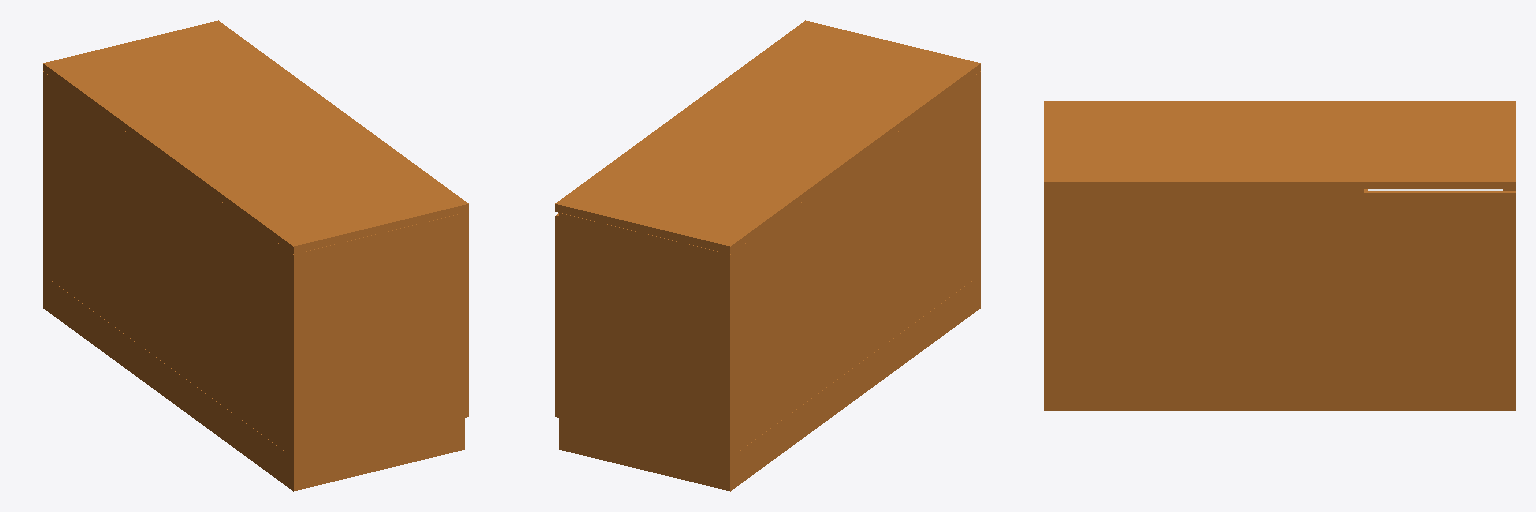
URDF robot description (room610-audio_shelf_fixed):
<?xml version="1.0"?>
<robot name="room610-audio_shelf_fixed"
       xmlns:xi="http://www.w3.org/2001/XInclude"
       >
  <gazebo>
    <static>false</static>
  </gazebo>
  <link name="ROOT_link">
    <visual>
      <origin xyz="0 0 0" rpy="0 -0 0"/>
      <geometry>
        <mesh filename="model://room610-audio_shelf/meshes/ROOT_link_mesh.dae" scale="1 1 1" />
      </geometry>
    </visual>
    <collision>
      <origin xyz="0 0 0" rpy="0 -0 0"/>
      <geometry>
        <mesh filename="model://room610-audio_shelf/meshes/ROOT_link_mesh.dae" scale="1 1 1" />
      </geometry>
    </collision>
    <inertial>
      <mass value="0.001" />
      <origin xyz="0 0 0" rpy="0 -0 0"/>
      <inertia ixx="1e-03" ixy="0" ixz="0" iyy="1e-03" iyz="0" izz="1e-03"/>
    </inertial>
  </link>
  <gazebo reference="ROOT_link">
    <mu1>0.9</mu1>
    <mu2>0.9</mu2>
  </gazebo>
  <link name="ROOM610-AUDIO_SHELF-BODYSET2_link">
    <visual>
      <origin xyz="0.222 0.195 0.08" rpy="0 -0 0"/>
      <geometry>
        <mesh filename="model://room610-audio_shelf/meshes/ROOM610-AUDIO_SHELF-BODYSET2_link_mesh.dae" scale="1 1 1" />
      </geometry>
    </visual>
    <collision>
      <origin xyz="0.222 0.195 0.08" rpy="0 -0 0"/>
      <geometry>
        <mesh filename="model://room610-audio_shelf/meshes/ROOM610-AUDIO_SHELF-BODYSET2_link_mesh.dae" scale="1 1 1" />
      </geometry>
    </collision>
    <inertial>
      <mass value="0.001" />
      <origin xyz="0 0 0" rpy="0 -0 0"/>
      <inertia ixx="1e-03" ixy="0" ixz="0" iyy="1e-03" iyz="0" izz="1e-03"/>
    </inertial>
  </link>
  <gazebo reference="ROOM610-AUDIO_SHELF-BODYSET2_link">
    <mu1>0.9</mu1>
    <mu2>0.9</mu2>
  </gazebo>
  <link name="ROOM610-AUDIO_SHELF-BODYSET3_link">
    <visual>
      <origin xyz="0.222 -0.565 0.08" rpy="0 -0 0"/>
      <geometry>
        <mesh filename="model://room610-audio_shelf/meshes/ROOM610-AUDIO_SHELF-BODYSET3_link_mesh.dae" scale="1 1 1" />
      </geometry>
    </visual>
    <collision>
      <origin xyz="0.222 -0.565 0.08" rpy="0 -0 0"/>
      <geometry>
        <mesh filename="model://room610-audio_shelf/meshes/ROOM610-AUDIO_SHELF-BODYSET3_link_mesh.dae" scale="1 1 1" />
      </geometry>
    </collision>
    <inertial>
      <mass value="0.001" />
      <origin xyz="0 0 0" rpy="0 -0 0"/>
      <inertia ixx="1e-03" ixy="0" ixz="0" iyy="1e-03" iyz="0" izz="1e-03"/>
    </inertial>
  </link>
  <gazebo reference="ROOM610-AUDIO_SHELF-BODYSET3_link">
    <mu1>0.9</mu1>
    <mu2>0.9</mu2>
  </gazebo>
  <link name="ROOM610-AUDIO_SHELF-BODYSET6_link">
    <visual>
      <origin xyz="0 0.39 0.18" rpy="0 -0 0"/>
      <geometry>
        <mesh filename="model://room610-audio_shelf/meshes/ROOM610-AUDIO_SHELF-BODYSET6_link_mesh.dae" scale="1 1 1" />
      </geometry>
    </visual>
    <collision>
      <origin xyz="0 0.39 0.18" rpy="0 -0 0"/>
      <geometry>
        <mesh filename="model://room610-audio_shelf/meshes/ROOM610-AUDIO_SHELF-BODYSET6_link_mesh.dae" scale="1 1 1" />
      </geometry>
    </collision>
    <inertial>
      <mass value="0.001" />
      <origin xyz="0 0 0" rpy="0 -0 0"/>
      <inertia ixx="1e-03" ixy="0" ixz="0" iyy="1e-03" iyz="0" izz="1e-03"/>
    </inertial>
  </link>
  <gazebo reference="ROOM610-AUDIO_SHELF-BODYSET6_link">
    <mu1>0.9</mu1>
    <mu2>0.9</mu2>
  </gazebo>
  <link name="ROOM610-AUDIO_SHELF-BODYSET5_link">
    <visual>
      <origin xyz="0 0.39 0.37" rpy="0 -0 0"/>
      <geometry>
        <mesh filename="model://room610-audio_shelf/meshes/ROOM610-AUDIO_SHELF-BODYSET5_link_mesh.dae" scale="1 1 1" />
      </geometry>
    </visual>
    <collision>
      <origin xyz="0 0.39 0.37" rpy="0 -0 0"/>
      <geometry>
        <mesh filename="model://room610-audio_shelf/meshes/ROOM610-AUDIO_SHELF-BODYSET5_link_mesh.dae" scale="1 1 1" />
      </geometry>
    </collision>
    <inertial>
      <mass value="0.001" />
      <origin xyz="0 0 0" rpy="0 -0 0"/>
      <inertia ixx="1e-03" ixy="0" ixz="0" iyy="1e-03" iyz="0" izz="1e-03"/>
    </inertial>
  </link>
  <gazebo reference="ROOM610-AUDIO_SHELF-BODYSET5_link">
    <mu1>0.9</mu1>
    <mu2>0.9</mu2>
  </gazebo>
  <link name="ROOM610-AUDIO_SHELF-BODYSET4_link">
    <visual>
      <origin xyz="0 0.39 0.52" rpy="0 -0 0"/>
      <geometry>
        <mesh filename="model://room610-audio_shelf/meshes/ROOM610-AUDIO_SHELF-BODYSET4_link_mesh.dae" scale="1 1 1" />
      </geometry>
    </visual>
    <collision>
      <origin xyz="0 0.39 0.52" rpy="0 -0 0"/>
      <geometry>
        <mesh filename="model://room610-audio_shelf/meshes/ROOM610-AUDIO_SHELF-BODYSET4_link_mesh.dae" scale="1 1 1" />
      </geometry>
    </collision>
    <inertial>
      <mass value="0.001" />
      <origin xyz="0 0 0" rpy="0 -0 0"/>
      <inertia ixx="1e-03" ixy="0" ixz="0" iyy="1e-03" iyz="0" izz="1e-03"/>
    </inertial>
  </link>
  <gazebo reference="ROOM610-AUDIO_SHELF-BODYSET4_link">
    <mu1>0.9</mu1>
    <mu2>0.9</mu2>
  </gazebo>
  <joint name="DOOR-LEFT" type="revolute">
    <parent link="ROOT_link"/>
    <child  link="ROOM610-AUDIO_SHELF-BODYSET2_link"/>
    <origin xyz="0.222 0.195 0.08" rpy="0 -0 0 "/>
    <axis   xyz="0 0 1"/>
    <limit lower="0" upper="1.5708" effort="100" velocity="0.5" />
    <dynamics damping="0.2" friction="0" />
  </joint>
  <transmission type="pr2_mechanism_model/SimpleTransmission" name="DOOR-LEFT_trans" >
    <actuator name="DOOR-LEFT_motor" />
    <joint name="DOOR-LEFT" />
    <mechanicalReduction>1</mechanicalReduction>
  </transmission>
  <gazebo reference="DOOR-LEFT">
    <cfmDamping>0.4</cfmDamping>
  </gazebo>
  <joint name="DOOR-RIGHT" type="revolute">
    <parent link="ROOT_link"/>
    <child  link="ROOM610-AUDIO_SHELF-BODYSET3_link"/>
    <origin xyz="0.222 -0.565 0.08" rpy="0 -0 0 "/>
    <axis   xyz="0 0 -1"/>
    <limit lower="0" upper="1.5708" effort="100" velocity="0.5" />
    <dynamics damping="0.2" friction="0" />
  </joint>
  <transmission type="pr2_mechanism_model/SimpleTransmission" name="DOOR-RIGHT_trans" >
    <actuator name="DOOR-RIGHT_motor" />
    <joint name="DOOR-RIGHT" />
    <mechanicalReduction>1</mechanicalReduction>
  </transmission>
  <gazebo reference="DOOR-RIGHT">
    <cfmDamping>0.4</cfmDamping>
  </gazebo>
  <joint name="DRAWER1" type="prismatic">
    <parent link="ROOT_link"/>
    <child  link="ROOM610-AUDIO_SHELF-BODYSET6_link"/>
    <origin xyz="0 0.39 0.18" rpy="0 -0 0 "/>
    <axis   xyz="1 0 0"/>
    <limit lower="0" upper="0.465" effort="100" velocity="0.01" />
    <dynamics damping="0.2" friction="0" />
  </joint>
  <transmission type="pr2_mechanism_model/SimpleTransmission" name="DRAWER1_trans" >
    <actuator name="DRAWER1_motor" />
    <joint name="DRAWER1" />
    <mechanicalReduction>1</mechanicalReduction>
  </transmission>
  <gazebo reference="DRAWER1">
    <cfmDamping>0.4</cfmDamping>
  </gazebo>
  <joint name="DRAWER2" type="prismatic">
    <parent link="ROOT_link"/>
    <child  link="ROOM610-AUDIO_SHELF-BODYSET5_link"/>
    <origin xyz="0 0.39 0.37" rpy="0 -0 0 "/>
    <axis   xyz="1 0 0"/>
    <limit lower="0" upper="0.465" effort="100" velocity="0.01" />
    <dynamics damping="0.2" friction="0" />
  </joint>
  <transmission type="pr2_mechanism_model/SimpleTransmission" name="DRAWER2_trans" >
    <actuator name="DRAWER2_motor" />
    <joint name="DRAWER2" />
    <mechanicalReduction>1</mechanicalReduction>
  </transmission>
  <gazebo reference="DRAWER2">
    <cfmDamping>0.4</cfmDamping>
  </gazebo>
  <joint name="DRAWER3" type="prismatic">
    <parent link="ROOT_link"/>
    <child  link="ROOM610-AUDIO_SHELF-BODYSET4_link"/>
    <origin xyz="0 0.39 0.52" rpy="0 -0 0 "/>
    <axis   xyz="1 0 0"/>
    <limit lower="0" upper="0.465" effort="100" velocity="0.01" />
    <dynamics damping="0.2" friction="0" />
  </joint>
  <transmission type="pr2_mechanism_model/SimpleTransmission" name="DRAWER3_trans" >
    <actuator name="DRAWER3_motor" />
    <joint name="DRAWER3" />
    <mechanicalReduction>1</mechanicalReduction>
  </transmission>
  <gazebo reference="DRAWER3">
    <cfmDamping>0.4</cfmDamping>
  </gazebo>
  <!-- Used for fixing robot to Gazebo 'base_link' -->
  <link name="world"/>
  <joint name="fixed" type="fixed">
    <parent link="world"/>
    <child link="ROOT_link"/>
  </joint>
</robot>

--- Facts derived from the render (not from the file) ---
The picture shows the robot from 3 angles, left to right: view 1: azimuth 30°, elevation 25°; view 2: azimuth 150°, elevation 25°; view 3: azimuth 270°, elevation 25°; orthographic projection.
Robot: room610-audio_shelf_fixed — 7 links, 6 joints (2 revolute, 3 prismatic, 1 fixed); root link world; default pose: all joints at 0.
Visible links, largest first — view 1: ROOT_link, ROOM610-AUDIO_SHELF-BODYSET3_link; view 2: ROOT_link; view 3: ROOT_link, ROOM610-AUDIO_SHELF-BODYSET2_link, ROOM610-AUDIO_SHELF-BODYSET3_link, ROOM610-AUDIO_SHELF-BODYSET6_link, ROOM610-AUDIO_SHELF-BODYSET5_link, ROOM610-AUDIO_SHELF-BODYSET4_link.
Boxes of the visible links, left/top/right/bottom form: ROOT_link: left=43, top=20, right=468, bottom=491; ROOM610-AUDIO_SHELF-BODYSET3_link: left=376, top=142, right=468, bottom=417; ROOT_link: left=555, top=20, right=980, bottom=491; ROOT_link: left=1044, top=101, right=1515, bottom=410; ROOM610-AUDIO_SHELF-BODYSET2_link: left=1204, top=178, right=1363, bottom=381; ROOM610-AUDIO_SHELF-BODYSET3_link: left=1044, top=178, right=1203, bottom=381; ROOM610-AUDIO_SHELF-BODYSET6_link: left=1364, top=304, right=1515, bottom=381; ROOM610-AUDIO_SHELF-BODYSET5_link: left=1364, top=241, right=1515, bottom=303; ROOM610-AUDIO_SHELF-BODYSET4_link: left=1364, top=189, right=1515, bottom=240.
Bounding box of the posed robot: 0.465 × 1.15 × 0.6205 m (x, y, z).
6 mesh visuals loaded from 6 distinct referenced files (6 Collada DAE).